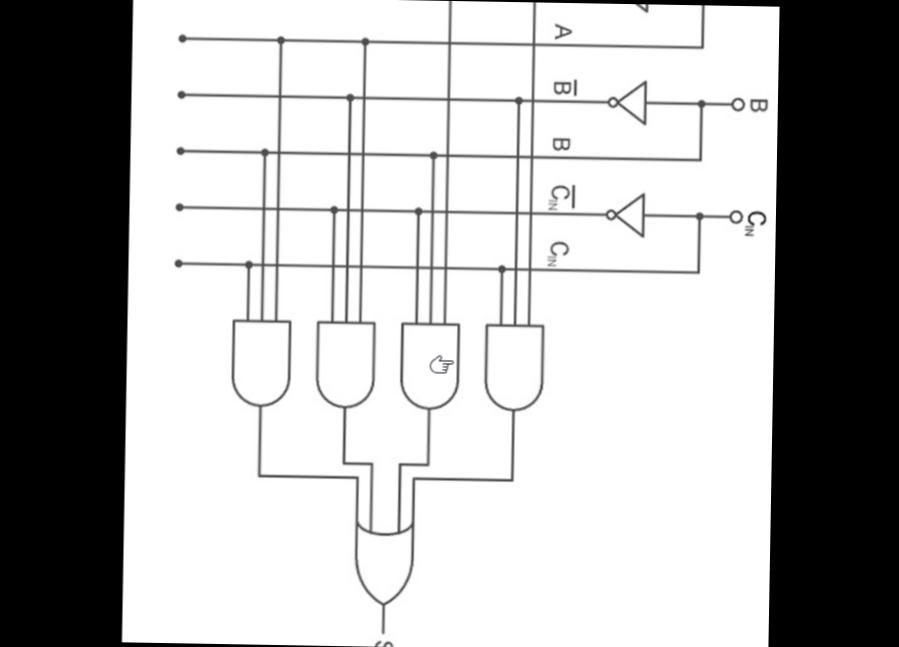and: (220, 308, 296, 428), (472, 320, 552, 416), (310, 313, 384, 414), (395, 315, 466, 409)
not: (600, 76, 659, 133), (595, 187, 657, 240), (600, 2, 657, 16)
or: (332, 511, 430, 607)
